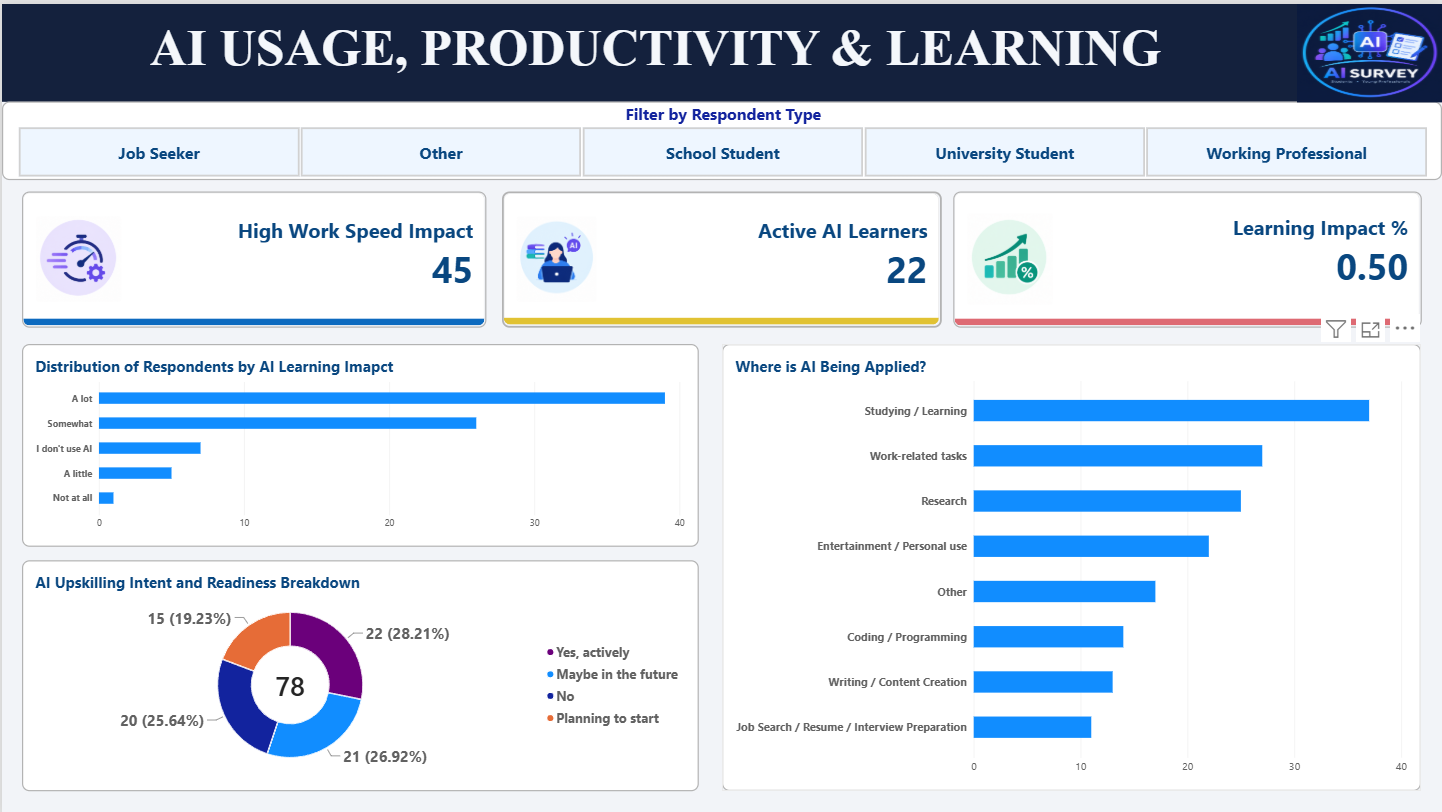

The page's visual inventory and layout, read from the dashboard file:
{"tool":"powerbi","page":{"name":"AI Usage, Productivity & Learning","canvas":[1920,1080],"ordinal":1},"visuals":[{"type":"textbox","title":"AI USAGE, PRODUCTIVITY & LEARNING","box":[0,0,1742.4,130],"z":0},{"type":"slicer","title":"Filter by Respondent Type ","fields":{"Values":["AI Survey.Respondent_Type "]},"box":[0,130.8,1920.4,104.7],"z":1000},{"type":"cardVisual","fields":{"Data":["AI Survey.High Work Speed Impact"]},"box":[26.2,249.4,619.2,181.4],"z":2000},{"type":"cardVisual","fields":{"Data":["AI Survey.Active AI Learners"]},"box":[666.3,249.4,586,181.4],"z":3000},{"type":"cardVisual","fields":{"Data":["AI Survey.Learning Impact %"]},"box":[1268,249.4,624.4,181.4],"z":4000},{"type":"clusteredBarChart","title":"Distribution of Respondents by AI Learning Imapct","fields":{"Category":["AI Survey.AI_Learning_Impact "],"Y":["CountNonNull(AI Survey.Respondent_ID)"]},"box":[26,454,902,270],"z":5000},{"type":"clusteredBarChart","title":"Where is AI Being Applied?","fields":{"Category":["AI Use Cases.Use Case"],"Y":["CountNonNull(AI Use Cases.Respondent_ID)"]},"box":[960,454,932,596],"z":6000},{"type":"donutChart","title":"AI Upskilling Intent and Readiness Breakdown","fields":{"Category":["AI Survey.Learning_AI_Skills "],"Y":["CountNonNull(AI Survey.Respondent_ID)"]},"box":[26,742,902,308],"z":7000},{"type":"image","box":[1726.7,0,193.6,130.8],"z":8000}]}

Visuals, with their boxes in screenshot pixels (x1, y1, x2, y2), scaled from the page's 1920x1080 canvas onto the 1442x812 screenshot:
"AI USAGE, PRODUCTIVITY & LEARNING" textbox: l=0, t=0, r=1309, b=98
"Filter by Respondent Type " slicer: l=0, t=98, r=1441, b=177
cardVisual - AI Survey.High Work Speed Impact: l=20, t=188, r=485, b=324
cardVisual - AI Survey.Active AI Learners: l=500, t=188, r=941, b=324
cardVisual - AI Survey.Learning Impact %: l=952, t=188, r=1421, b=324
"Distribution of Respondents by AI Learning Imapct" clusteredBarChart: l=20, t=341, r=697, b=544
"Where is AI Being Applied?" clusteredBarChart: l=721, t=341, r=1421, b=789
"AI Upskilling Intent and Readiness Breakdown" donutChart: l=20, t=558, r=697, b=789
image: l=1297, t=0, r=1441, b=98
